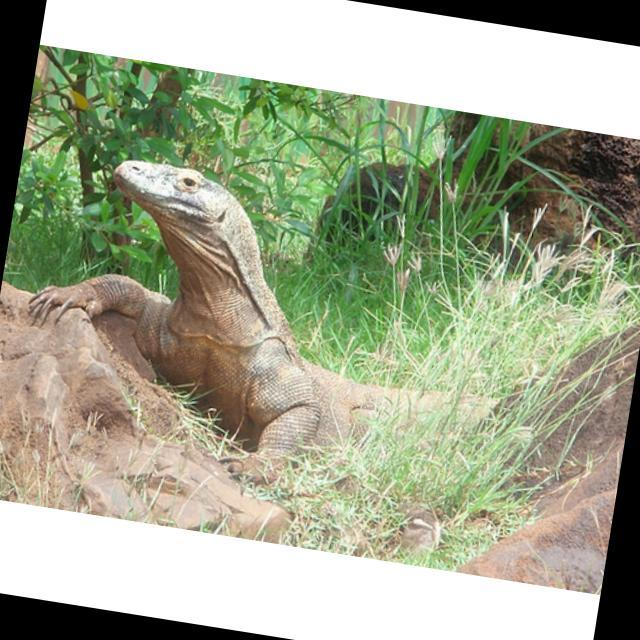KomodoDragon: (10, 142, 574, 527)
